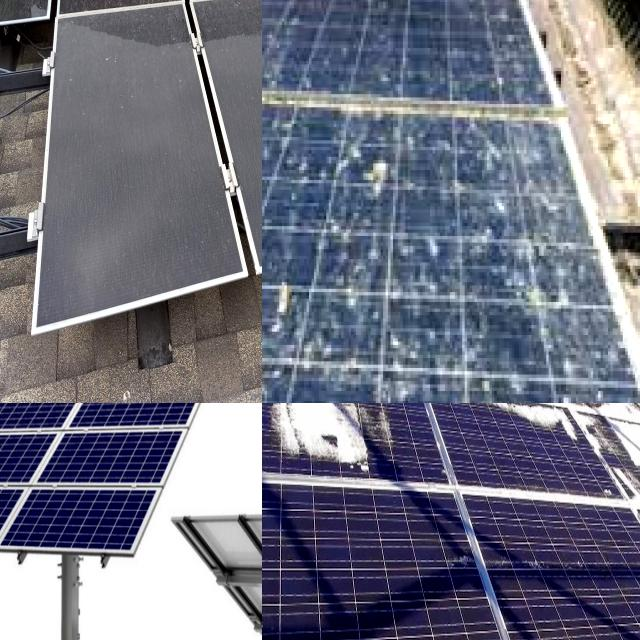bird: (342, 134, 398, 203), (262, 321, 304, 403), (524, 259, 572, 322), (379, 345, 428, 403), (262, 268, 306, 310)
crack: (0, 403, 241, 582)
dust: (57, 71, 215, 285), (74, 0, 262, 52), (66, 14, 186, 65), (228, 74, 262, 238), (196, 0, 262, 65), (0, 0, 49, 59)
panel: (266, 403, 376, 473), (460, 403, 564, 452), (582, 403, 640, 428), (262, 403, 280, 483), (381, 403, 446, 420)
